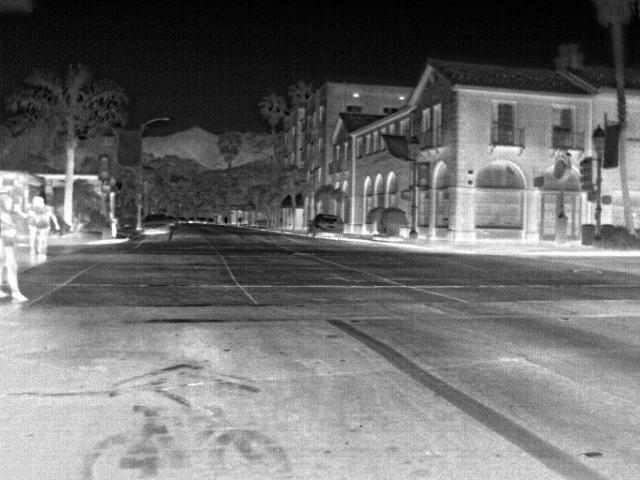car: (308, 213, 347, 237), (141, 212, 171, 236), (163, 216, 178, 228)
person: (1, 194, 31, 303), (26, 193, 60, 264)
